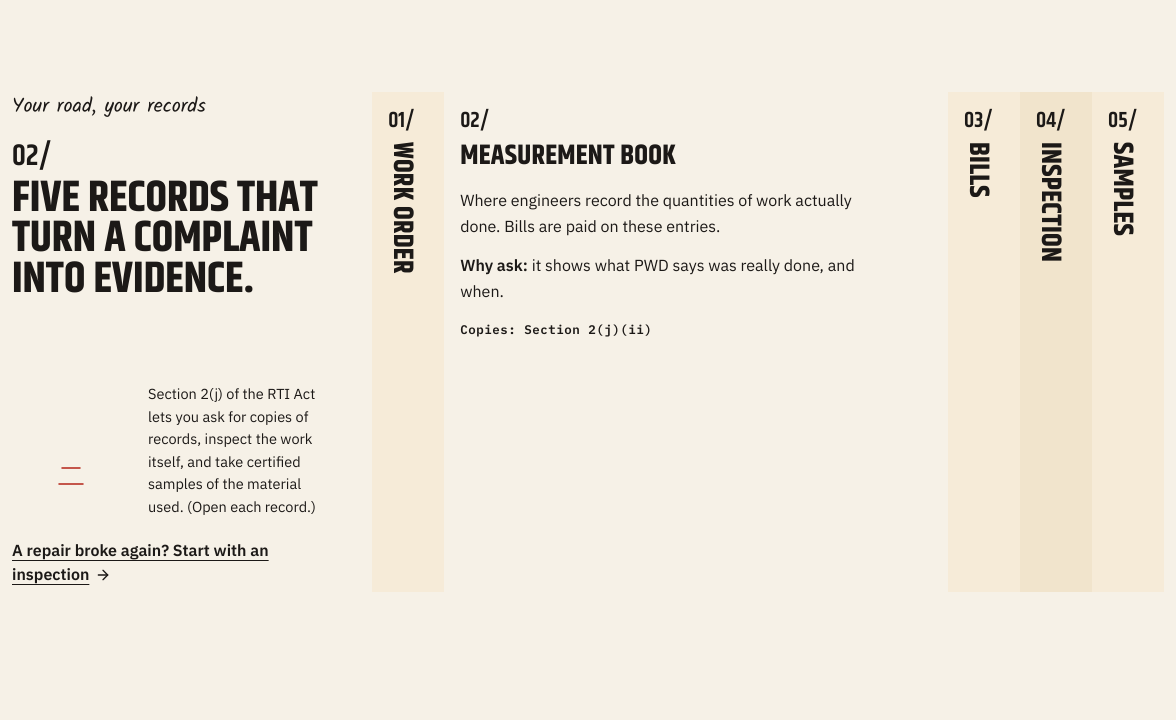
Test case: one record is open at a time, and opening another closes it
Expected: the text "Where engineers record the quantities of work actually done. Bills are paid on these entries." is shown, [460,190,852,236]
Click the button "05/ Samples": (1128, 342) [1092,92,1164,592]
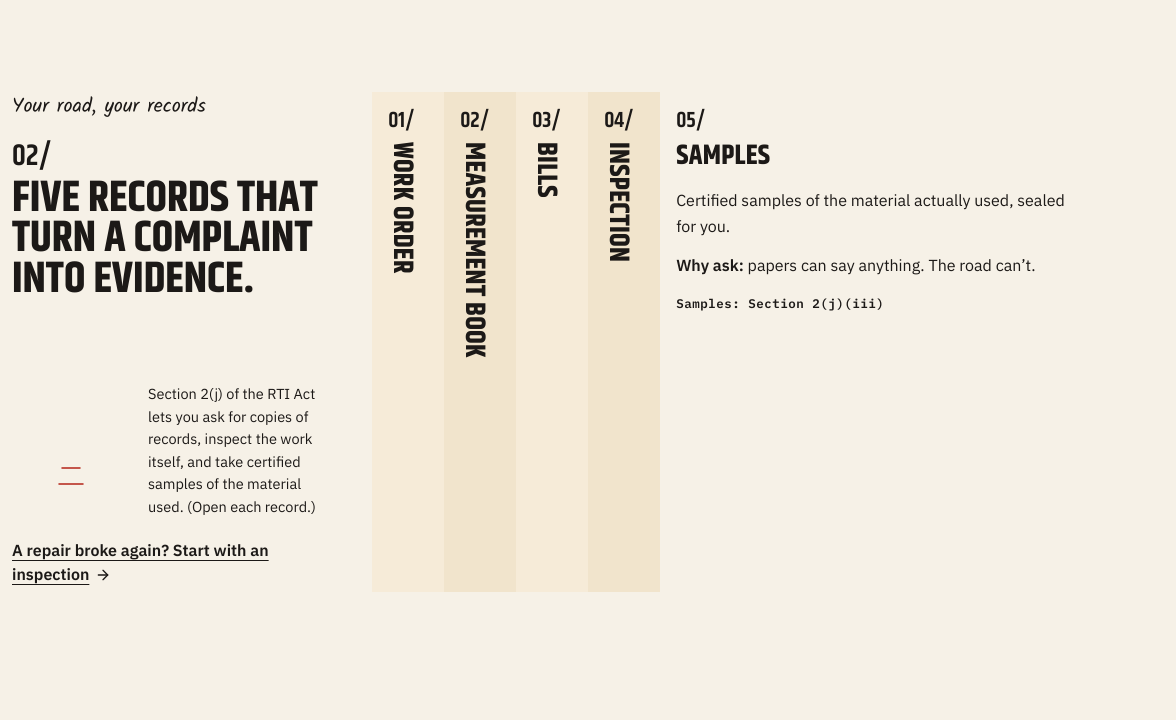
Expected: the button "05/ Samples" is expanded, [660,92,1164,188]
Expected: the button "02/ Measurement Book" is collapsed, [444,92,516,592]
Expected: the text "Certified samples of the material actually used, sealed for you." is shown, [676,188,1078,239]
